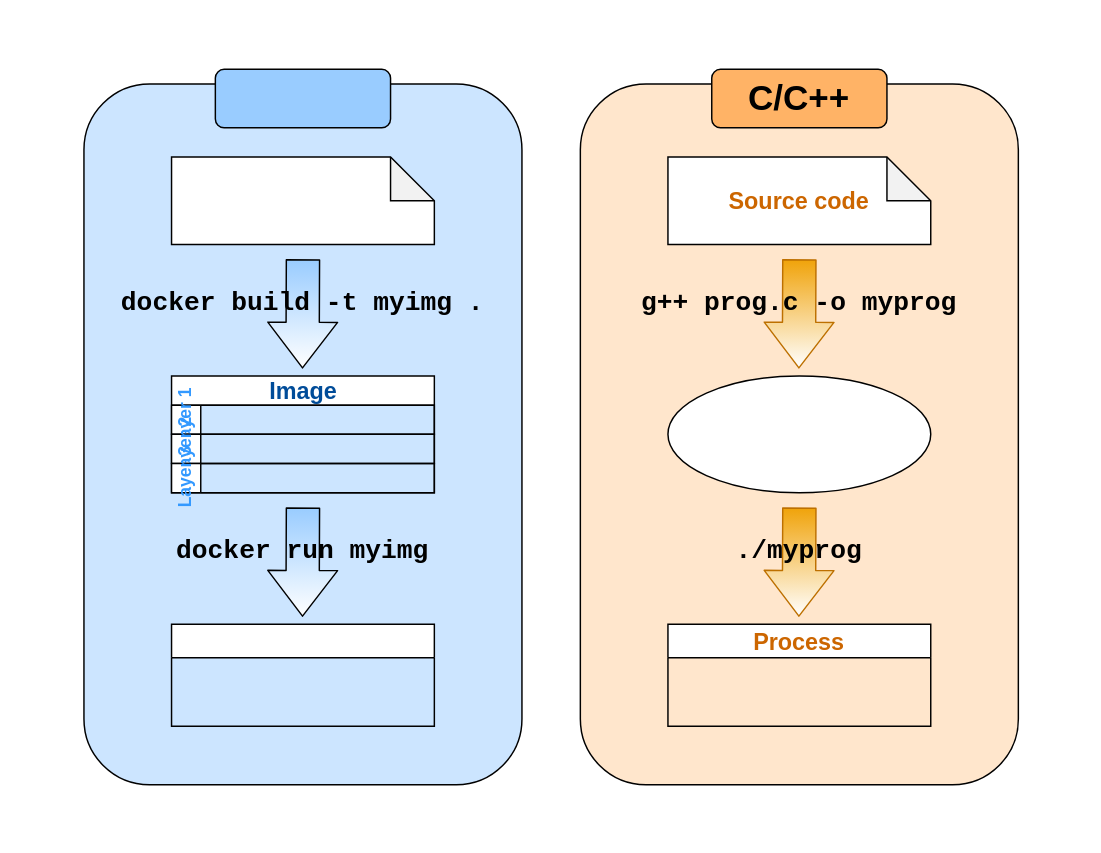
Some shapes in this 1101 by 853 pixel diagram are drawn without their labels. The centre of each missing label's shape, as x and y in pixels:
"Container" goes at pixel 302 674.
"Docker" goes at pixel 302 98.
"Dockerfile" goes at pixel 302 200.
"Executable Binary" goes at pixel 798 433.
